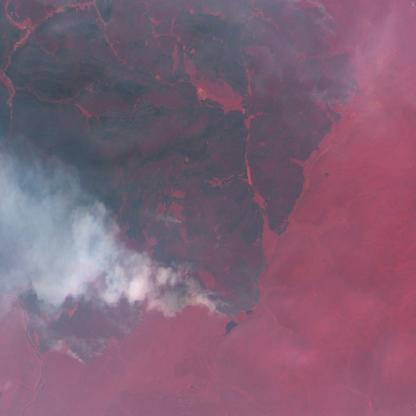fire: (66, 209, 246, 373), (291, 0, 365, 110)
